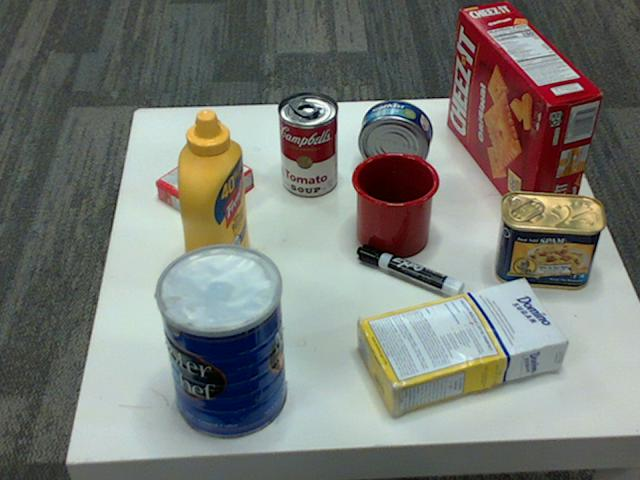cracker_box: (447, 0, 602, 224)
gelatin_box: (154, 143, 252, 220)
large_marker: (357, 245, 464, 303)
master_chef_can: (152, 246, 285, 441)
mug: (349, 151, 437, 256)
mustard_bottle: (175, 109, 249, 294)
potted_meat_can: (493, 192, 604, 290)
sugar_box: (353, 277, 565, 415)
tomato_soup_can: (277, 92, 337, 197)
tuna_fish_can: (356, 99, 431, 174)
